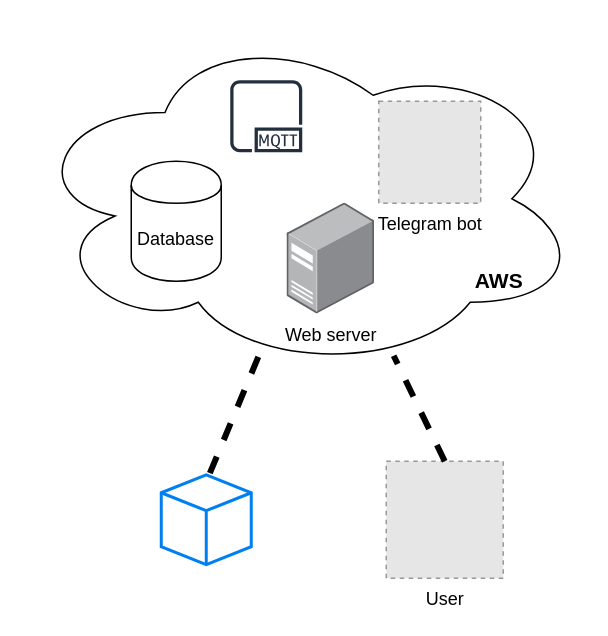
Some shapes in this 608 by 636 pixel diagram are drawn without their labels. Grey dashed boxes stand in for pictures. Here are the shapes that lost their labels. From the top down, the centre of each, then its label:
At point (265, 115): "MQTT broker".
At point (205, 519): "Smart Cube".
